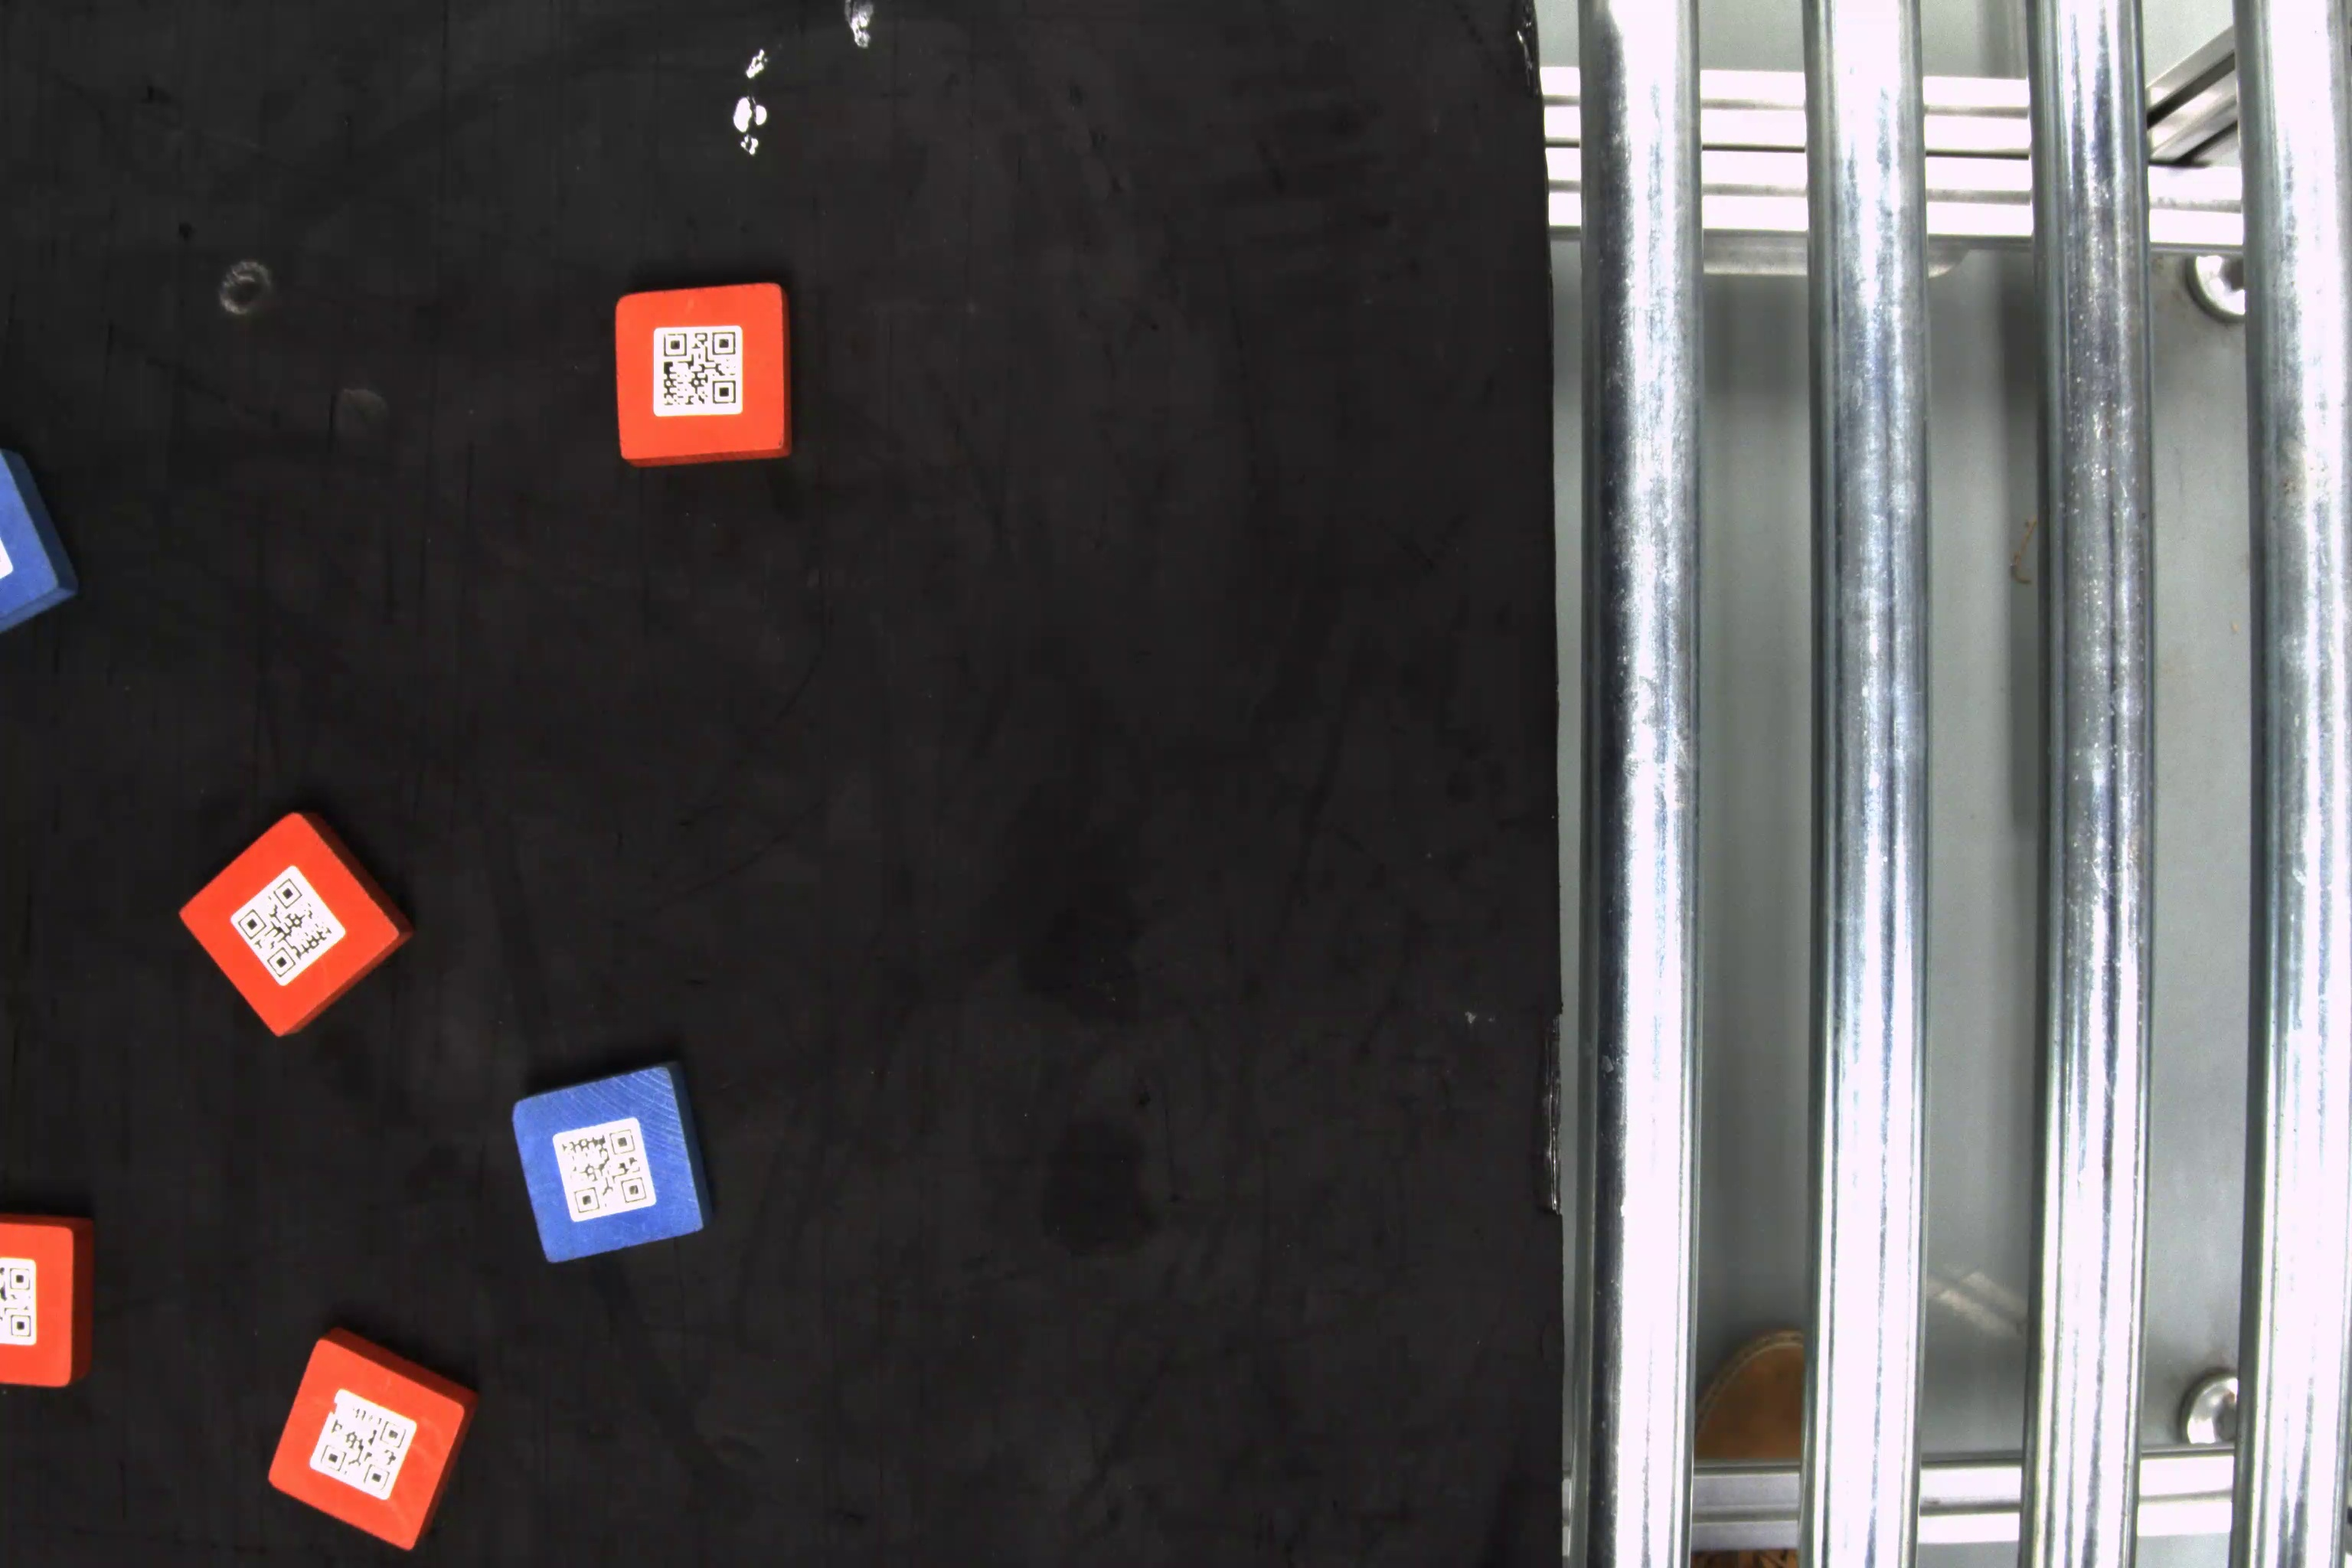wood: (173, 801, 416, 1038), (273, 1323, 476, 1554), (507, 1046, 707, 1263), (619, 282, 793, 464), (0, 1207, 98, 1389), (0, 450, 75, 633)
